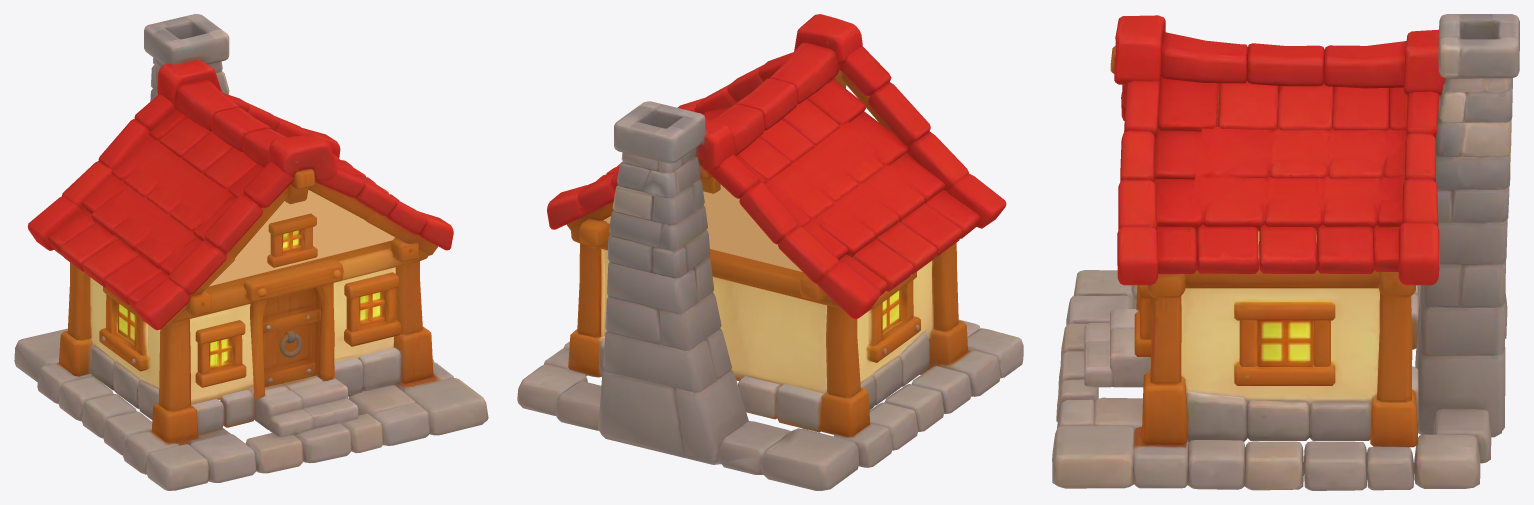
File: cabin_lite.glb
3 renders of one model, left to right at view 1: azimuth 30°, elevation 25°; view 2: azimuth 150°, elevation 25°; view 3: azimuth 270°, elevation 25°, orthographic. The views are drawn at different scales.
Parts seen in each view (by area): view 1: cottage_shell; view 2: cottage_shell; view 3: cottage_shell.
Part boxes in pixels (x1,y1,x2,y2): cottage_shell: (14,14,488,490); cottage_shell: (517,14,1023,490); cottage_shell: (1052,14,1519,490).
Size of the model in its own units: 0.9922 by 0.8945 by 1.
1 material, 1 textured.
